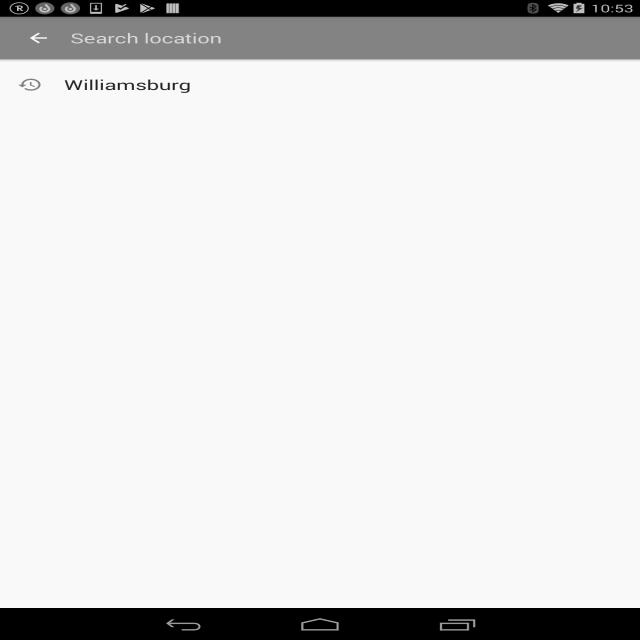ImageButton: (22, 29, 54, 47)
TextView: (63, 28, 230, 52), (58, 72, 207, 98)
